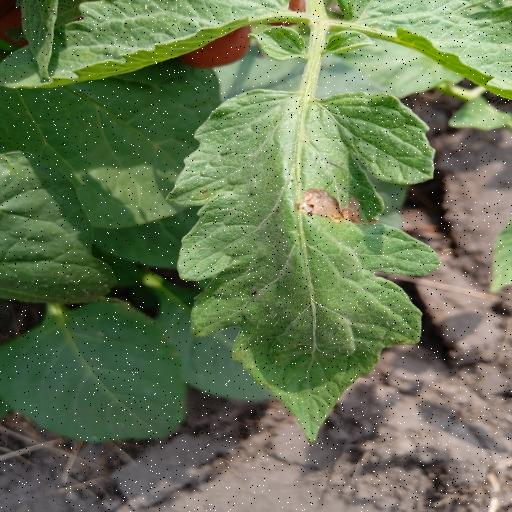Tomato_Mildiou: (161, 76, 442, 444)
